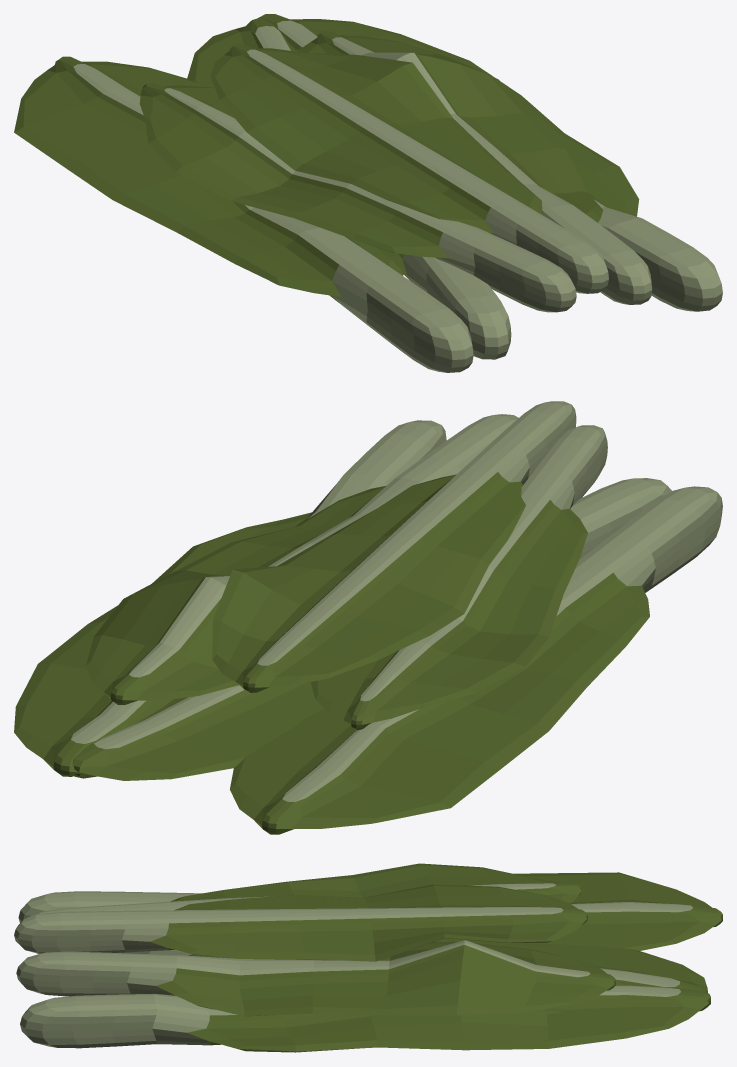
The model's file is Mustard Leaves.fbx.
3 views of the same model, one above another, from view 1: azimuth 30°, elevation 25°; view 2: azimuth 150°, elevation 25°; view 3: azimuth 270°, elevation 25° (orthographic). The views are drawn at different scales.
Parts seen in each view (by area): view 1: Mustard Leaves; view 2: Mustard Leaves; view 3: Mustard Leaves.
Boxes of the visible parts, x1,y1,x2,y2 form: Mustard Leaves: [14, 14, 722, 372]; Mustard Leaves: [14, 401, 722, 834]; Mustard Leaves: [14, 863, 722, 1052].
Bounding box in the file's own units: 40.93 × 8.99 × 68.75.
